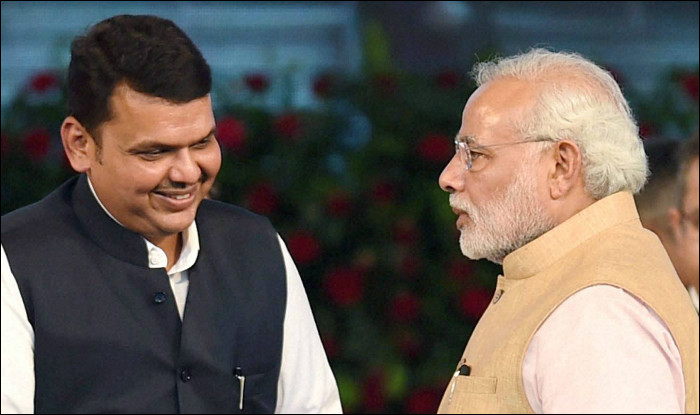modi: (421, 42, 669, 290)
